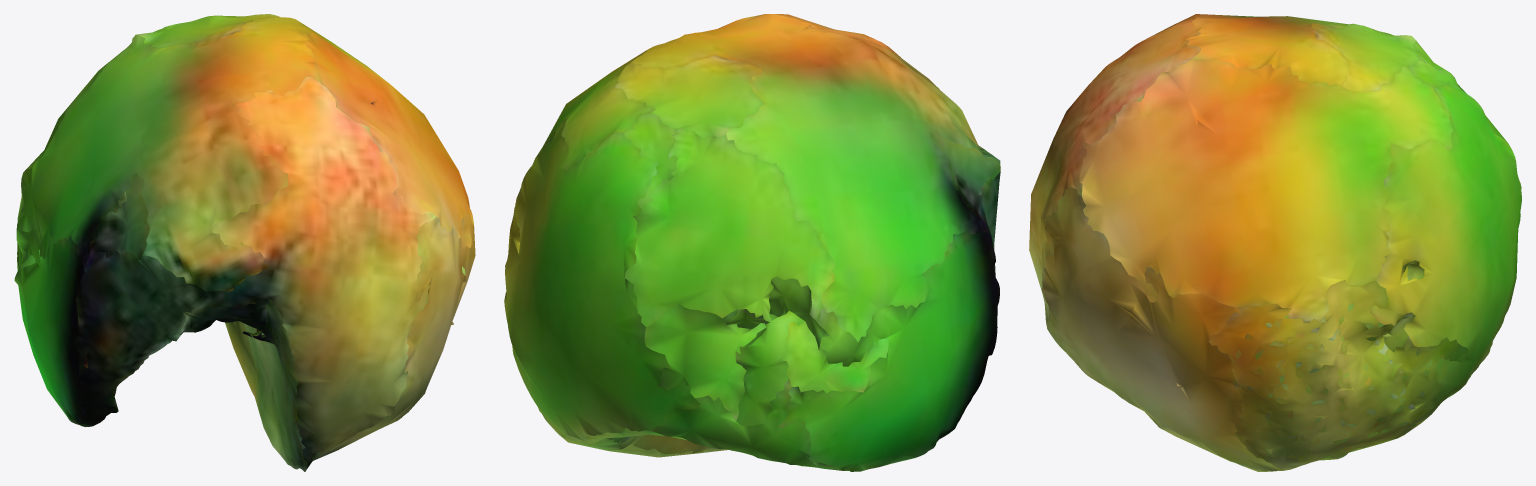
The model's file is 4_orange,_fruit.glb.
The picture shows the model from 3 angles, left to right: view 1: azimuth 30°, elevation 25°; view 2: azimuth 150°, elevation 25°; view 3: azimuth 270°, elevation 25°; orthographic projection. The views are drawn at different scales.
Parts seen in each view (by area): view 1: 4_orange,_fruit; view 2: 4_orange,_fruit; view 3: 4_orange,_fruit.
Boxes of the visible parts, box(x1,y1,x2,y2) form: 4_orange,_fruit: box(14, 14, 475, 471); 4_orange,_fruit: box(504, 14, 1000, 471); 4_orange,_fruit: box(1029, 14, 1521, 471).
Bounding box in the file's own units: 0.1654 × 0.1538 × 0.1748.
Materials: 1 (1 with a texture image).
